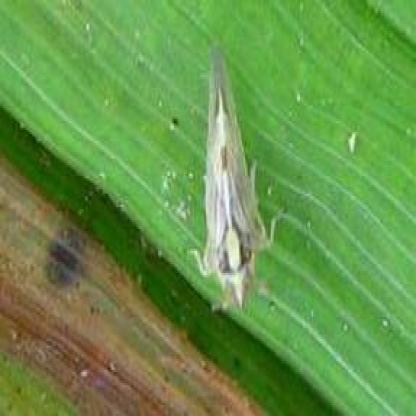brown-planthopper: (196, 50, 268, 314)
